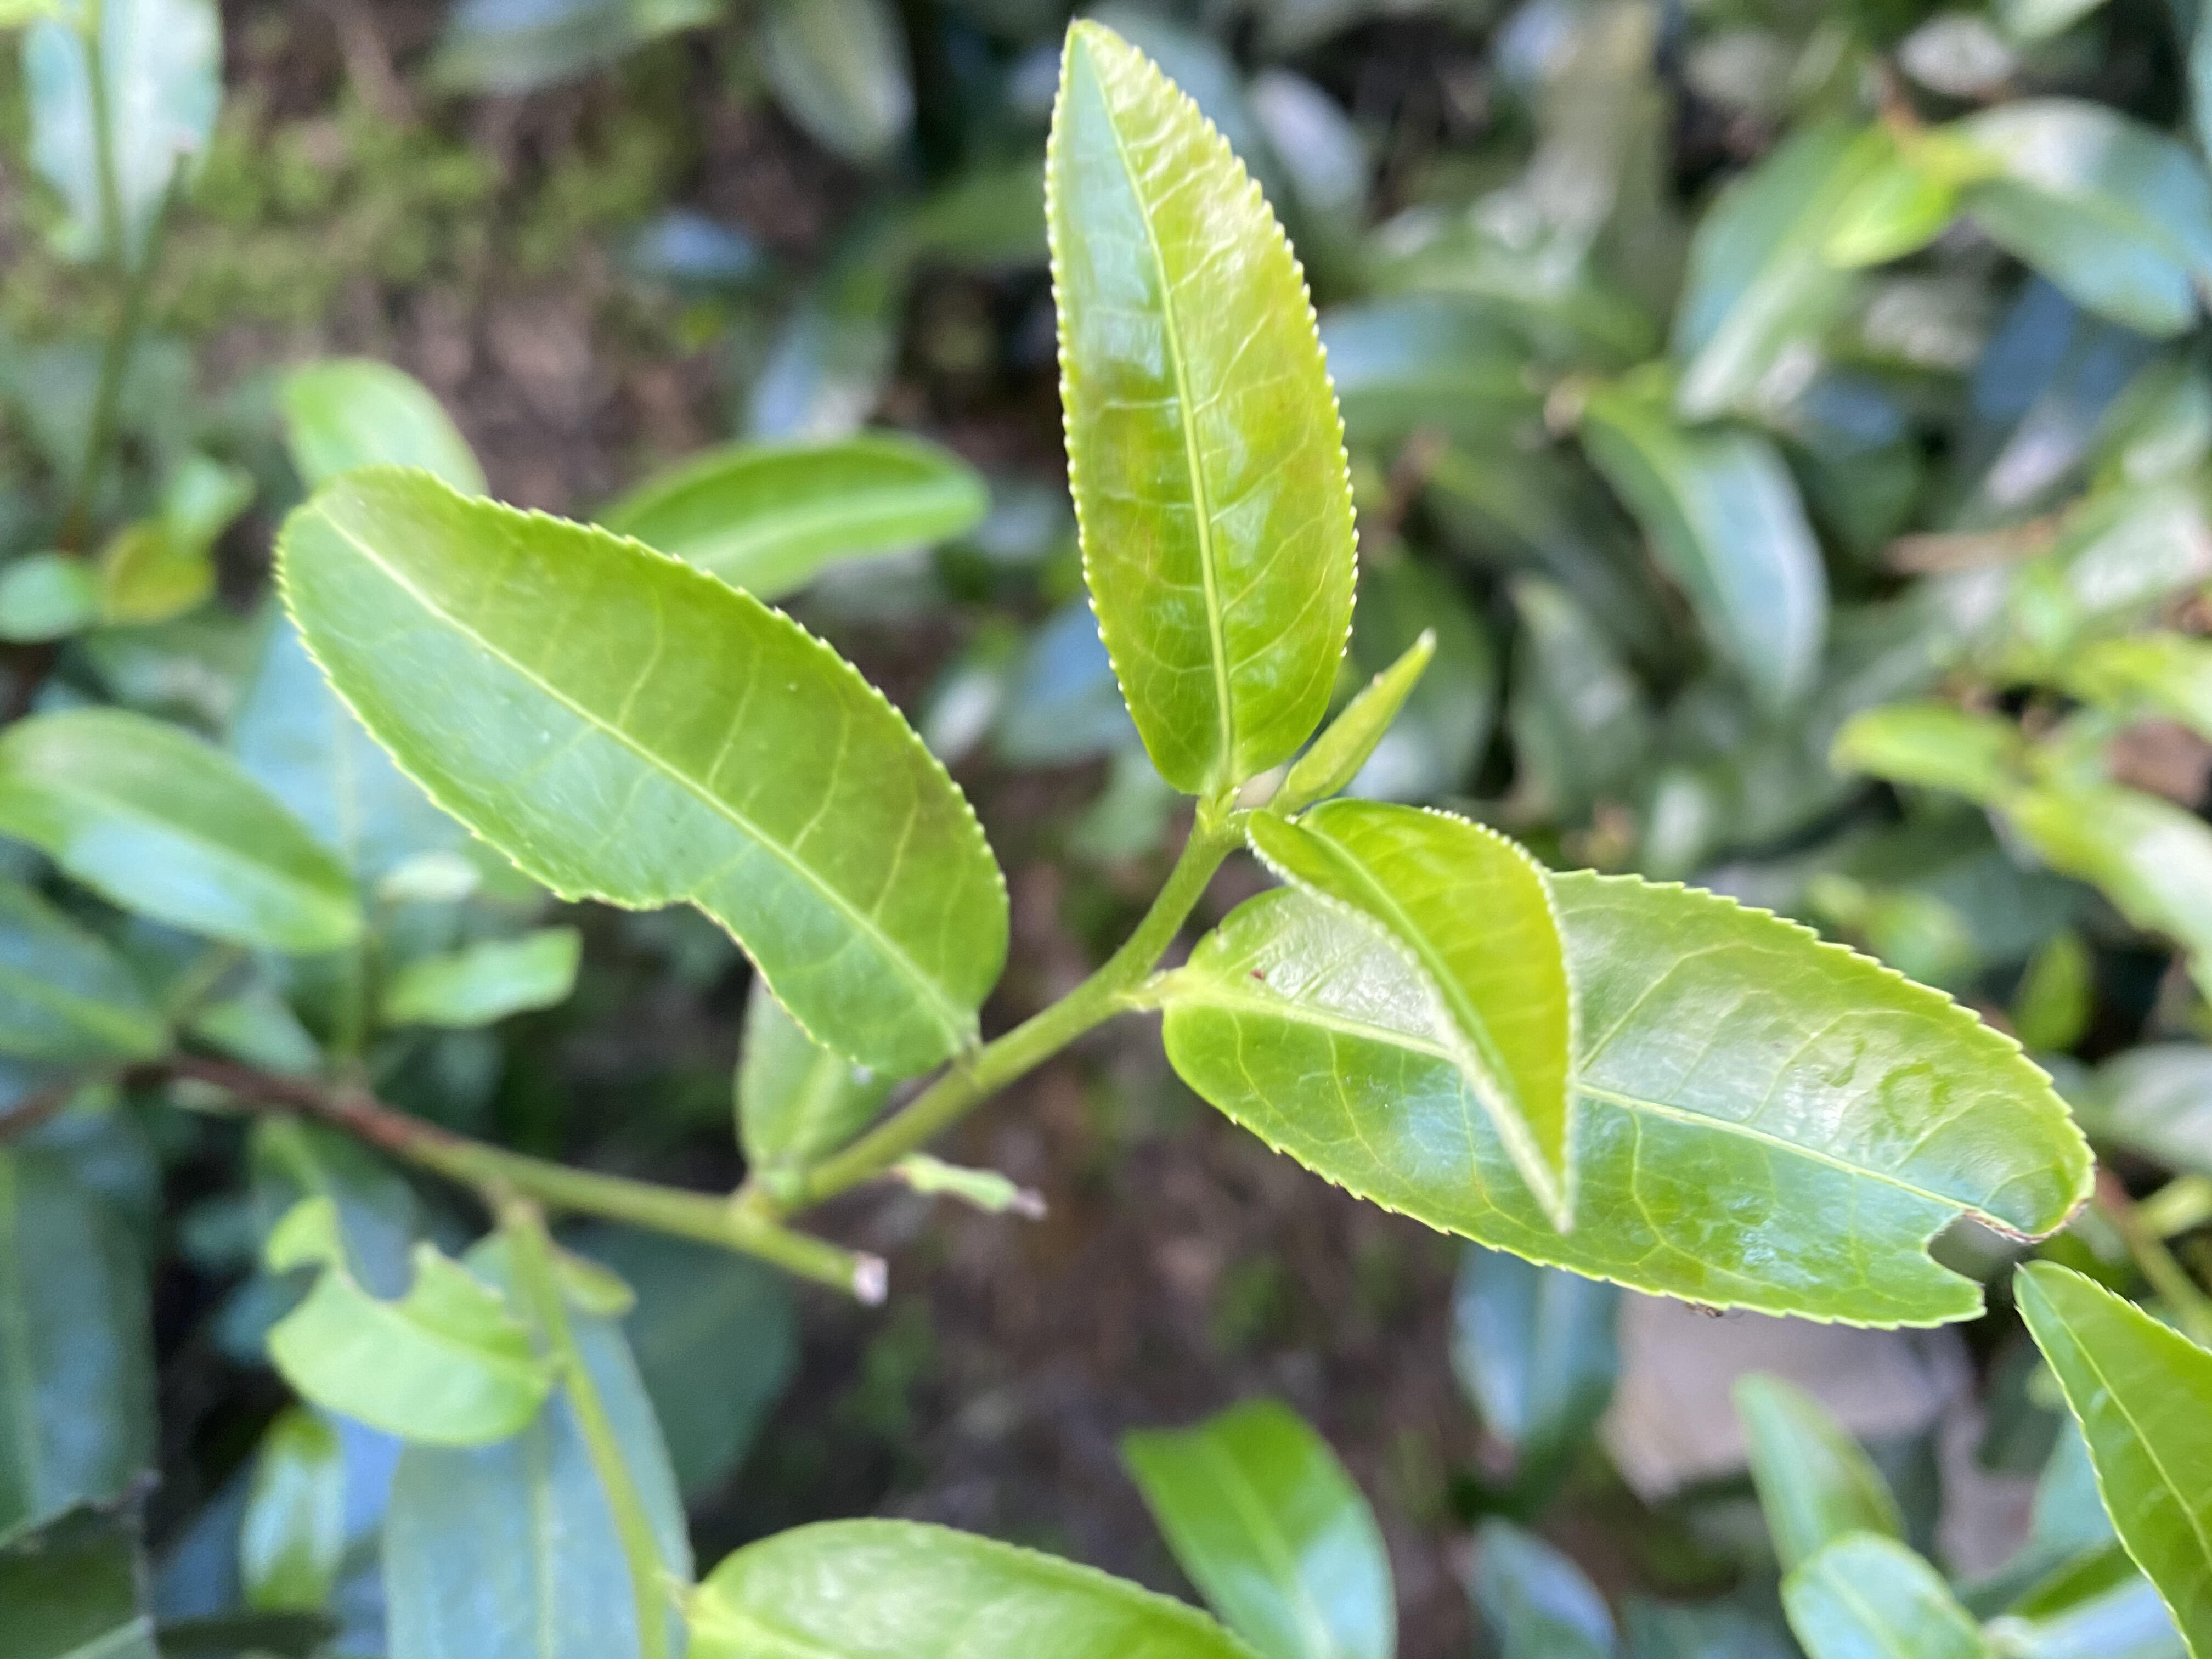chihuo_low: (272, 465, 1017, 1079), (1162, 864, 2099, 1331)
healthy: (1038, 14, 1367, 796), (1247, 795, 1580, 1230)
